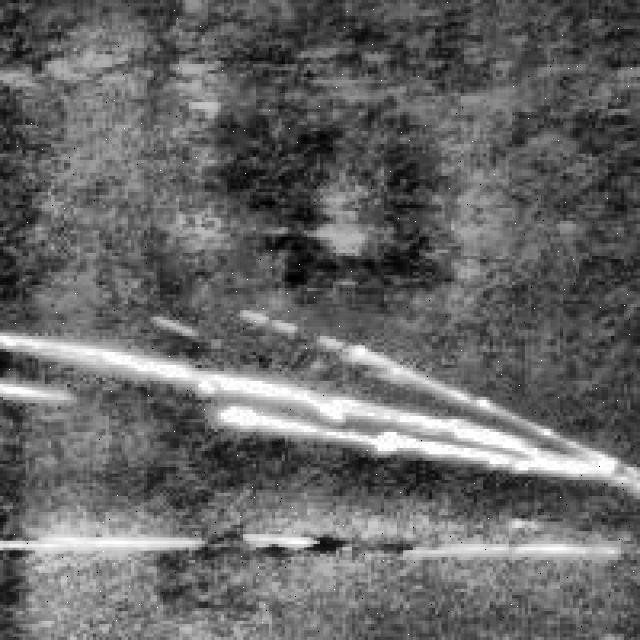Inclusion: (0, 320, 637, 483), (0, 518, 618, 564)
